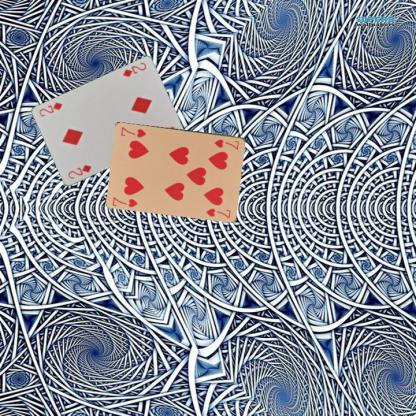2d: (121, 60, 148, 79), (65, 162, 93, 180)
7h: (110, 194, 140, 209), (212, 136, 240, 151)
